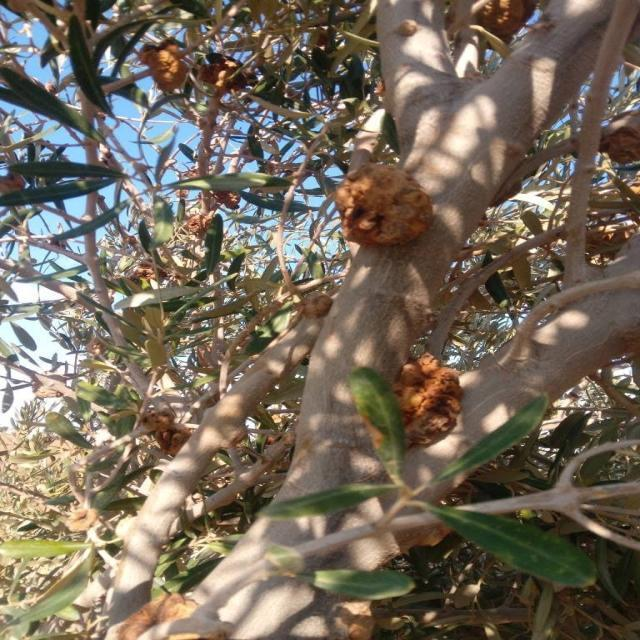Tuberculosis: (335, 161, 433, 248), (394, 354, 462, 448), (470, 0, 536, 43), (196, 53, 258, 95), (140, 39, 188, 93), (140, 408, 192, 457), (600, 125, 639, 169), (296, 292, 329, 320)
